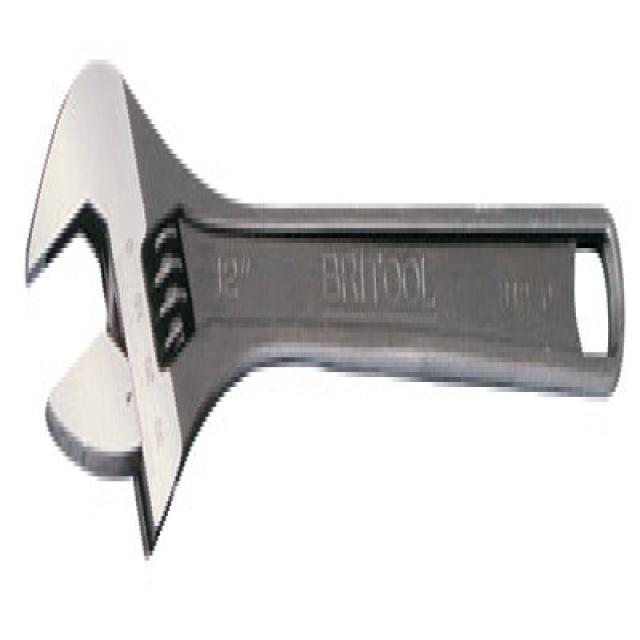wrench: (28, 62, 624, 554)
